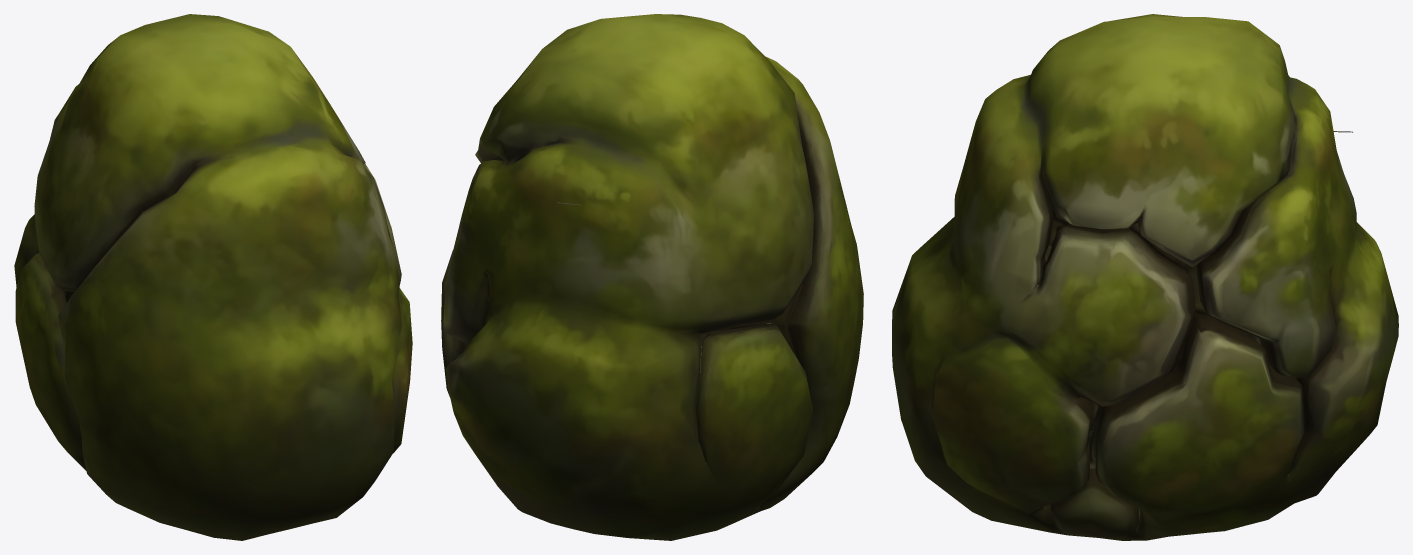
Rendered from 17-boulder.glb.
3 renders of one model, left to right at view 1: azimuth 30°, elevation 25°; view 2: azimuth 150°, elevation 25°; view 3: azimuth 270°, elevation 25°, orthographic. The views are drawn at different scales.
Visible parts, largest first — view 1: tripo_node_a323dfac-2da5-4139-a0e5-f894909305d3; view 2: tripo_node_a323dfac-2da5-4139-a0e5-f894909305d3; view 3: tripo_node_a323dfac-2da5-4139-a0e5-f894909305d3.
Part boxes in pixels (left/top/right/bottom): tripo_node_a323dfac-2da5-4139-a0e5-f894909305d3: left=14, top=14, right=412, bottom=540; tripo_node_a323dfac-2da5-4139-a0e5-f894909305d3: left=441, top=14, right=863, bottom=540; tripo_node_a323dfac-2da5-4139-a0e5-f894909305d3: left=892, top=14, right=1398, bottom=540.
Bounding box in the file's own units: 0.7798 × 0.9995 × 0.9995.
1 material, 1 textured.
